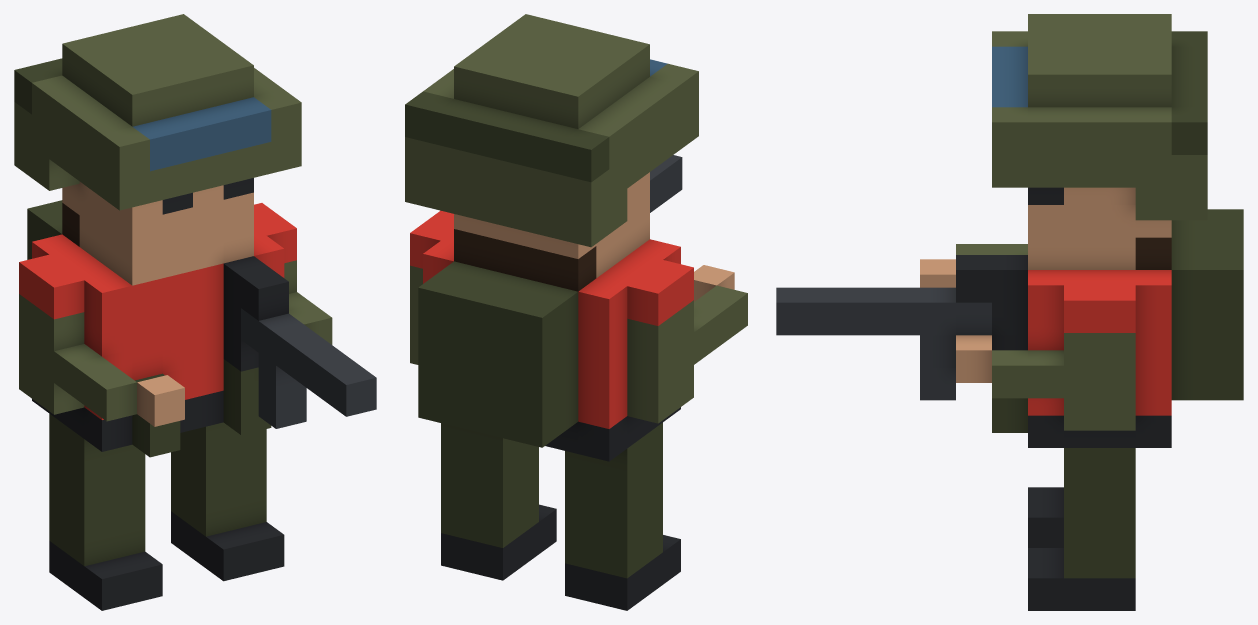
Rendered from cm_rifle_0.glb.
3 renders of one model, left to right at view 1: azimuth 30°, elevation 25°; view 2: azimuth 150°, elevation 25°; view 3: azimuth 270°, elevation 25°, orthographic. The views are drawn at different scales.
Parts seen in each view (by area): view 1: cm_rifle_0_body; view 2: cm_rifle_0_body; view 3: cm_rifle_0_body.
Part boxes in pixels (<box>): cm_rifle_0_body: <box>14,14,376,610</box>; cm_rifle_0_body: <box>405,14,747,610</box>; cm_rifle_0_body: <box>776,14,1243,610</box>.
Bounding box in the file's own units: 0.5 × 1 × 0.8125.
1 material, 1 textured.
